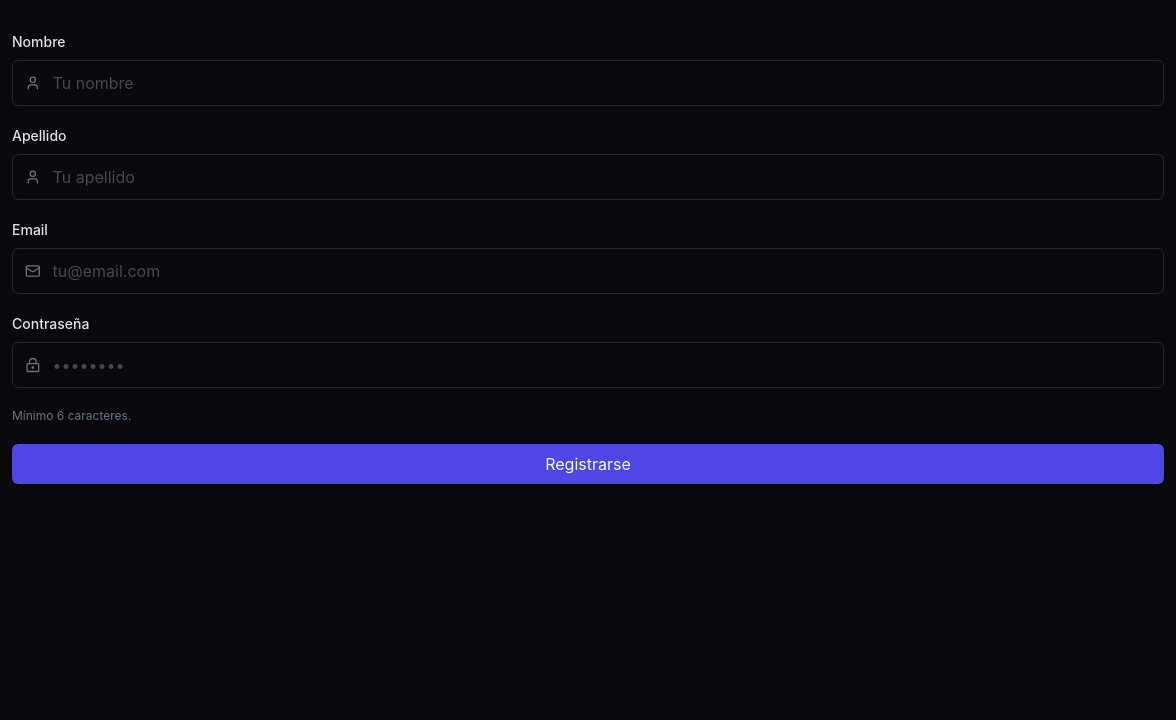
Scenario: RegisterForm › shows the backend registration error
Type "Juan" into the field labelled "Nombre" at (602, 83), box [53,71,1151,95]
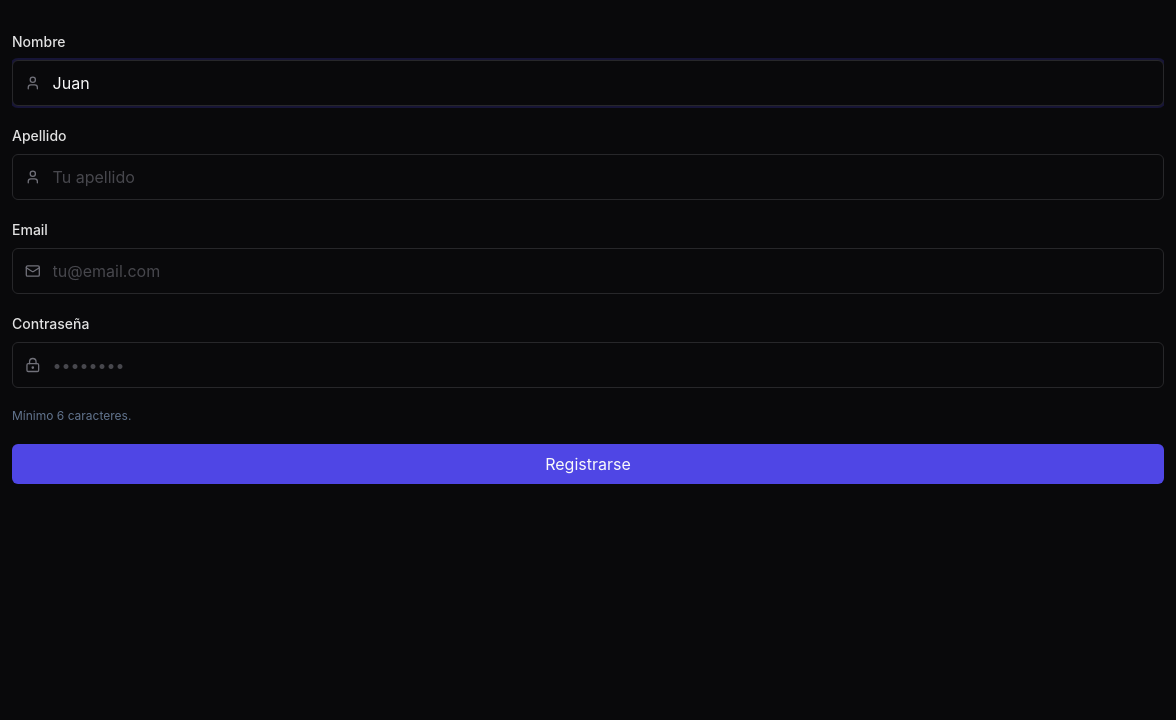
Type "Perez" into the field labelled "Apellido" at (602, 177), box [53,165,1151,189]
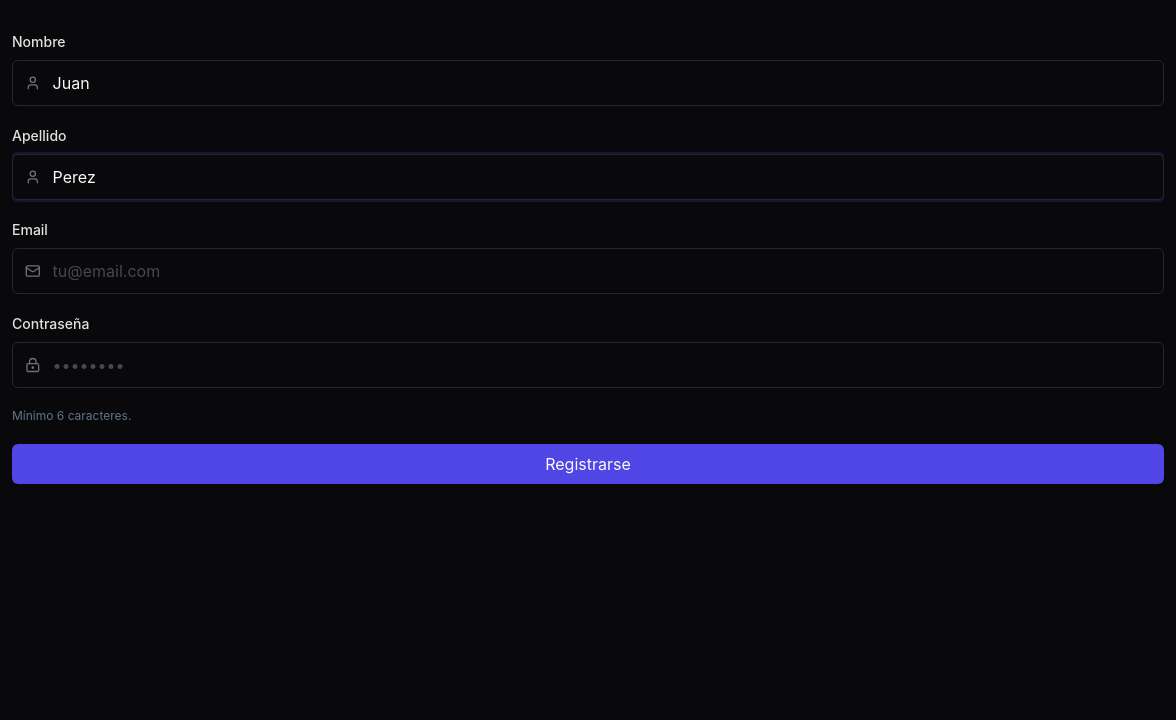
Type "juan@example.com" into the field labelled "Email" at (602, 271), box [53,259,1151,283]
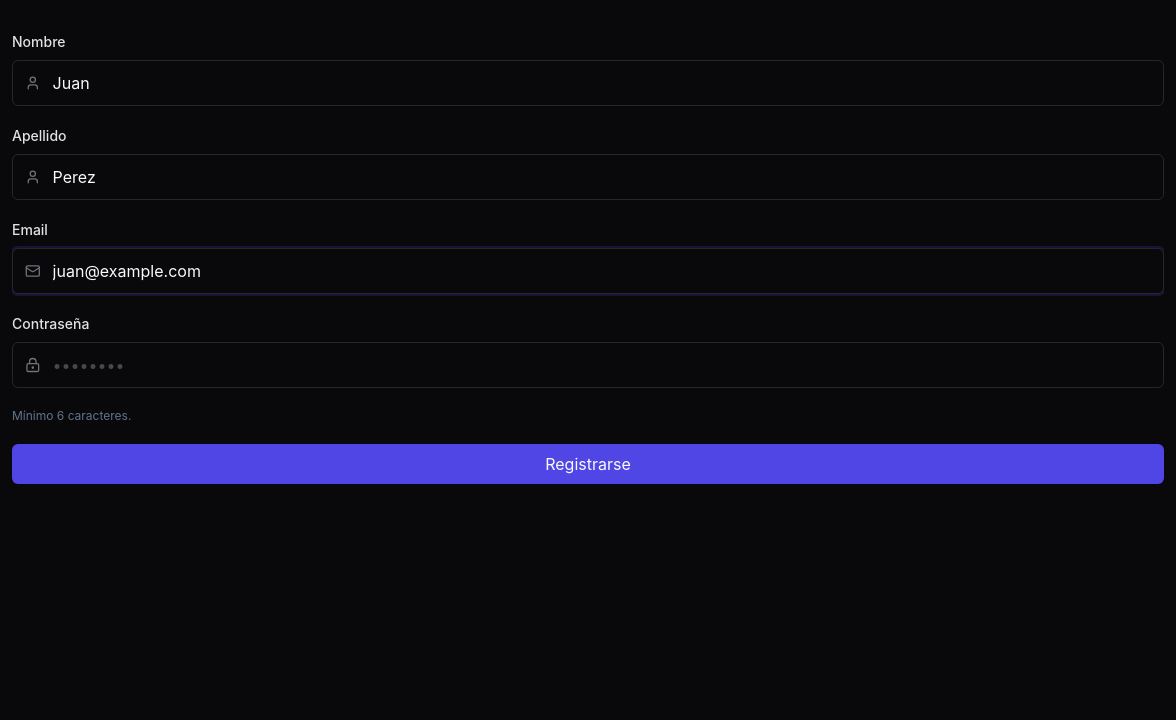
Type "password123" into the password field labelled "Contraseña" at (602, 365), box [53,353,1151,377]
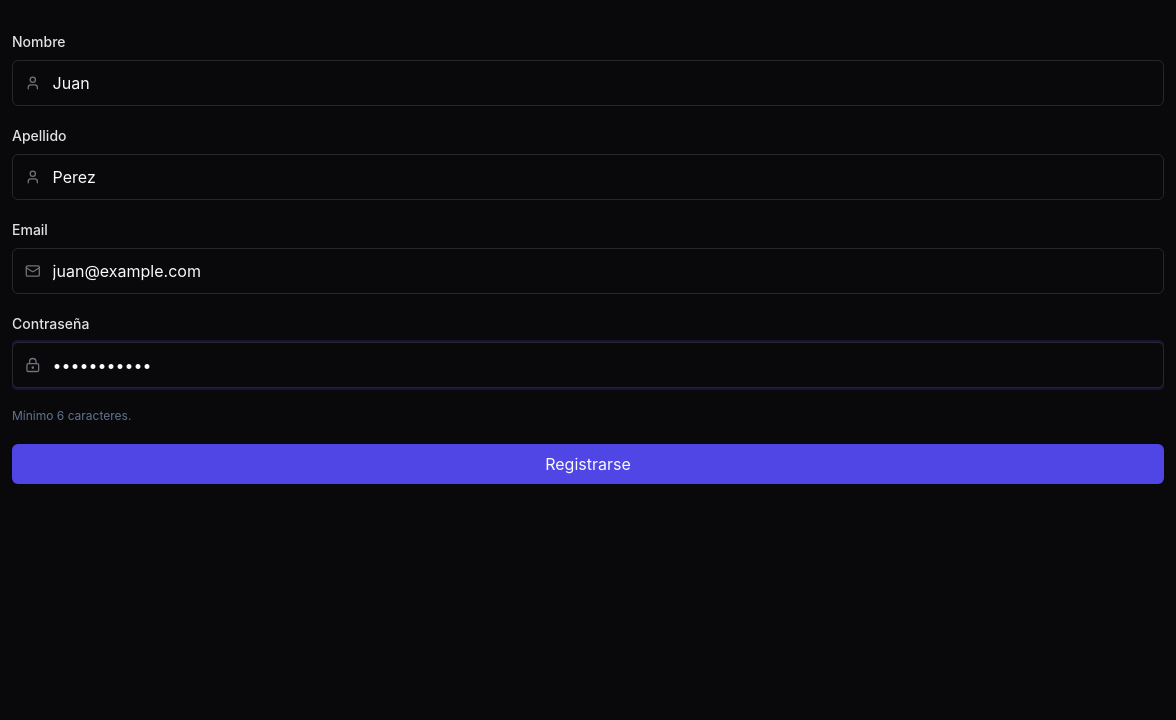
Click the button "Registrarse" at (588, 464), box [12,444,1164,484]
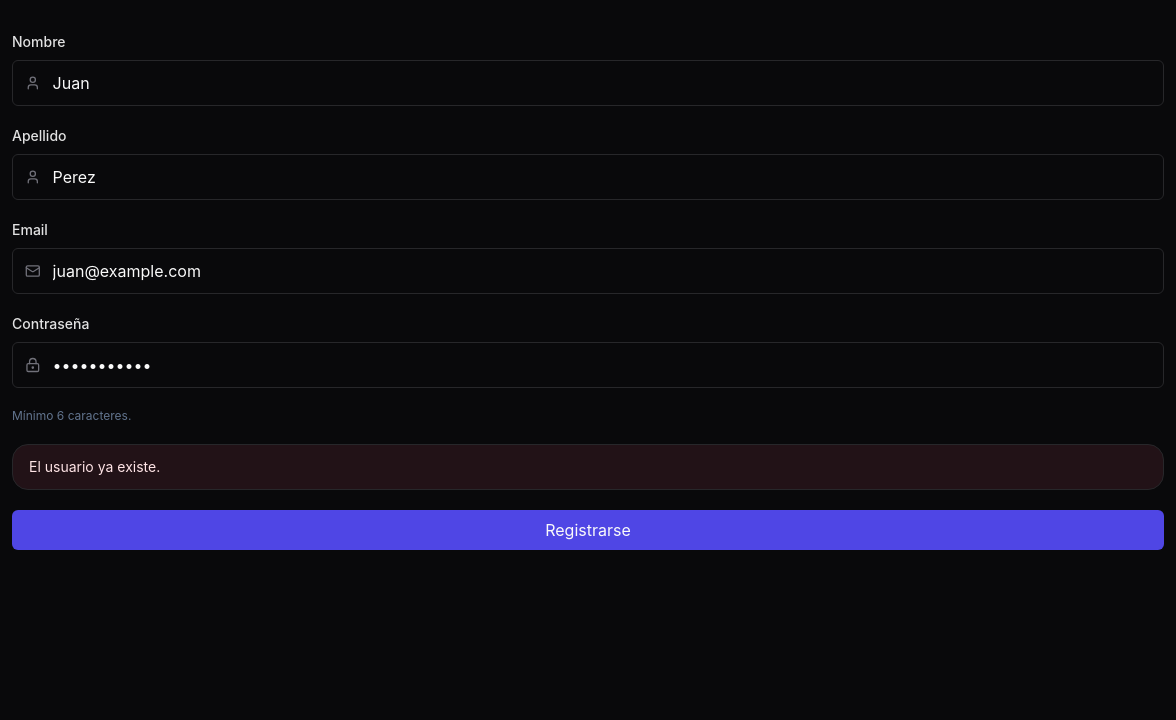
Expected: the text "El usuario ya existe." is shown, [12,444,1164,490]
